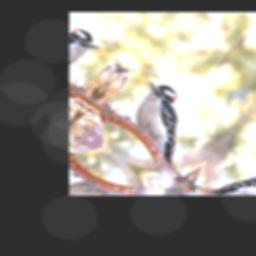Woodpecker: (106, 76, 216, 169)
